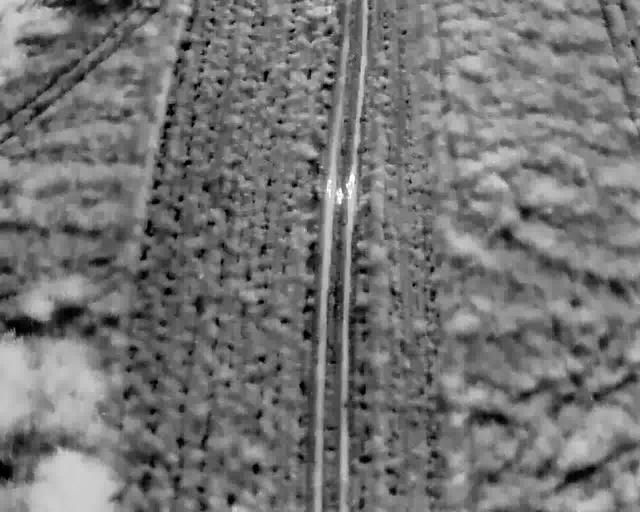person: (345, 181, 353, 199), (336, 187, 343, 204), (326, 179, 332, 197), (348, 173, 355, 188)
